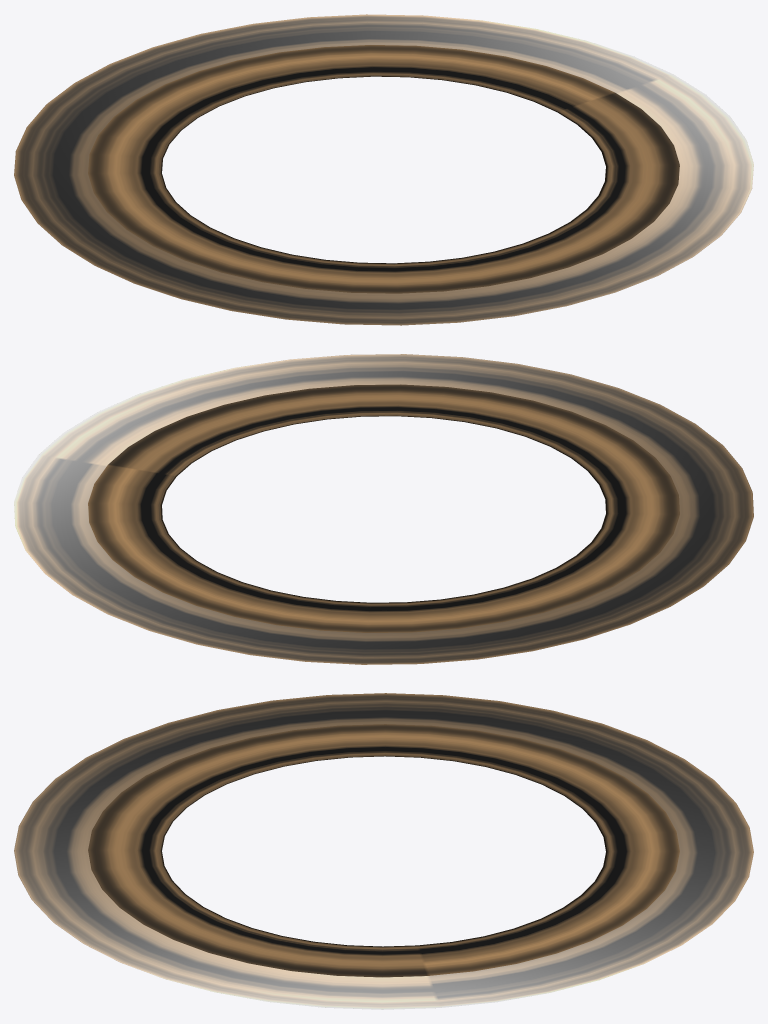
Rendered from bbb.DAE.
3 renders of one model, top to bottom at view 1: azimuth 30°, elevation 25°; view 2: azimuth 150°, elevation 25°; view 3: azimuth 270°, elevation 25°, orthographic.
Visible parts, largest first — view 1: pasted__pTorus2; view 2: pasted__pTorus2; view 3: pasted__pTorus2.
Part boxes in pixels (x1,y1,x2,y2): pasted__pTorus2: (14, 14, 753, 325); pasted__pTorus2: (14, 354, 753, 664); pasted__pTorus2: (14, 693, 753, 1009).
Size of the model in its own units: 53.82 by 53.83 by 0.3766.
